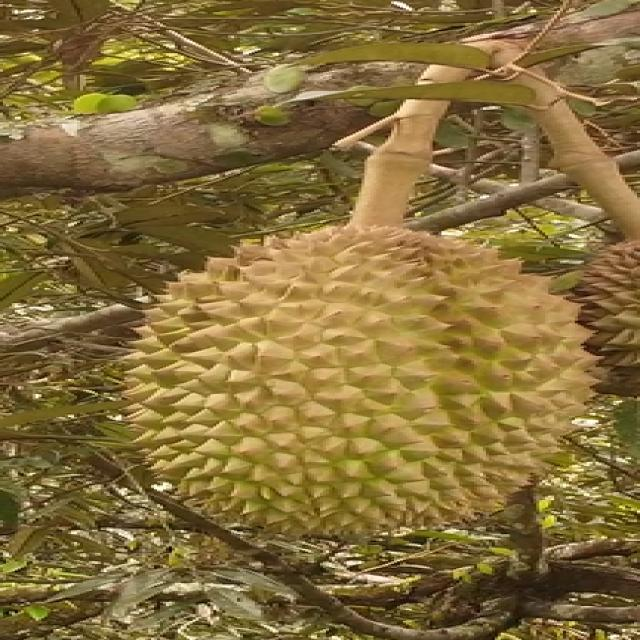mature: (131, 222, 603, 536)
